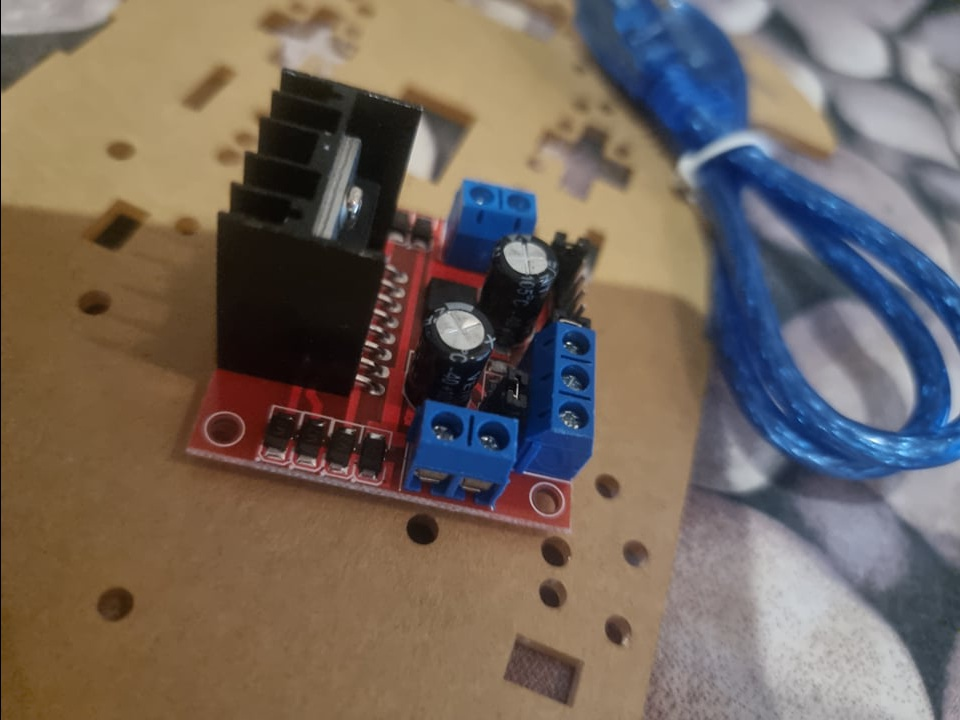MOTOR: (177, 64, 598, 536)
